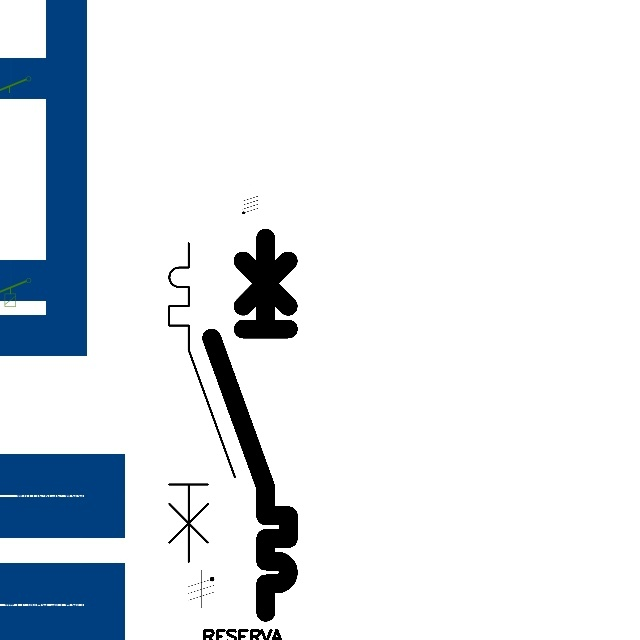interruptor_termomagnetico: (202, 228, 298, 621), (161, 235, 243, 570)
